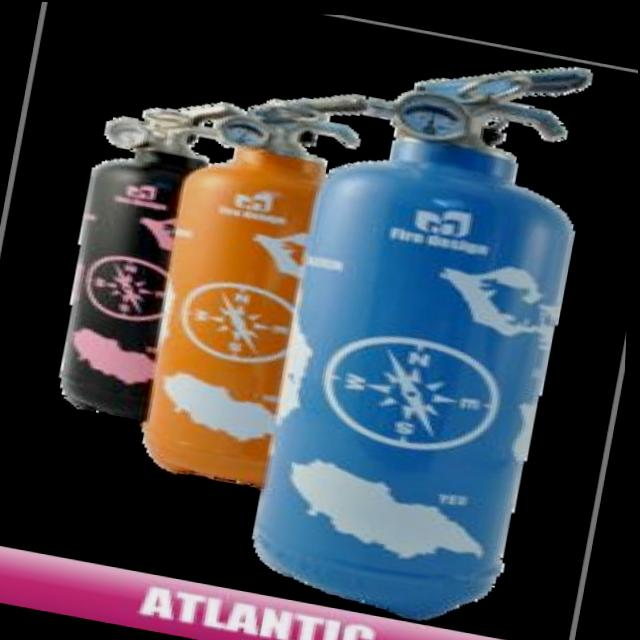FireExtinguisher: (238, 12, 616, 636), (122, 55, 393, 503), (44, 77, 268, 434)
